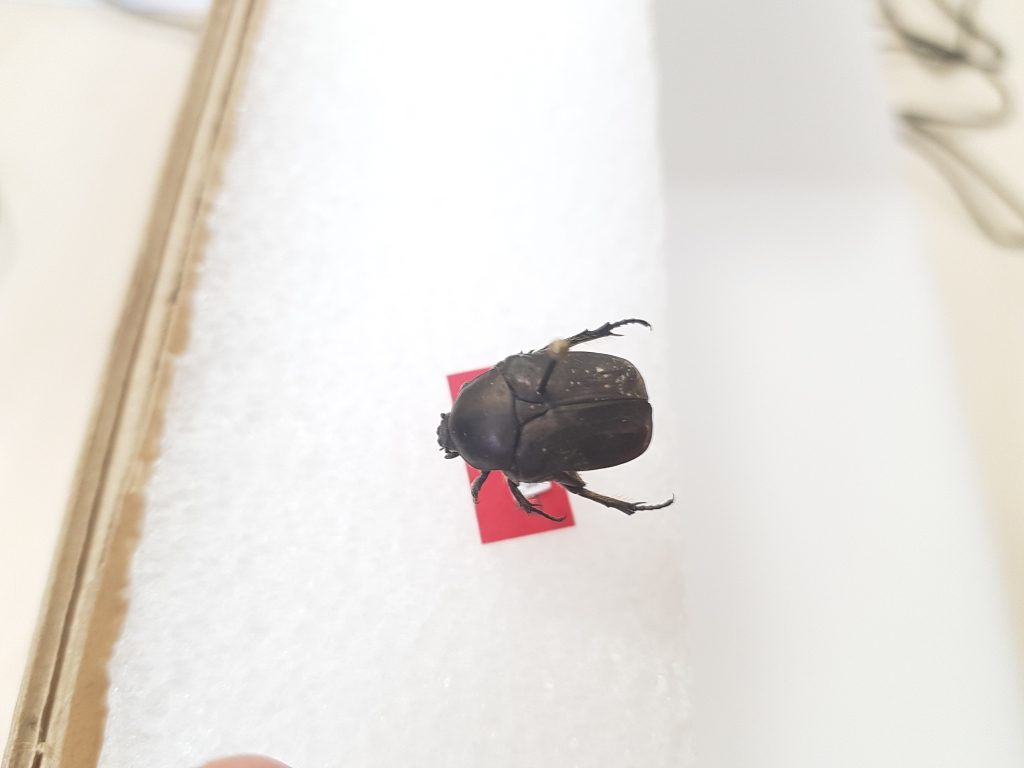Protaetia_asiatica: (429, 312, 686, 531)
